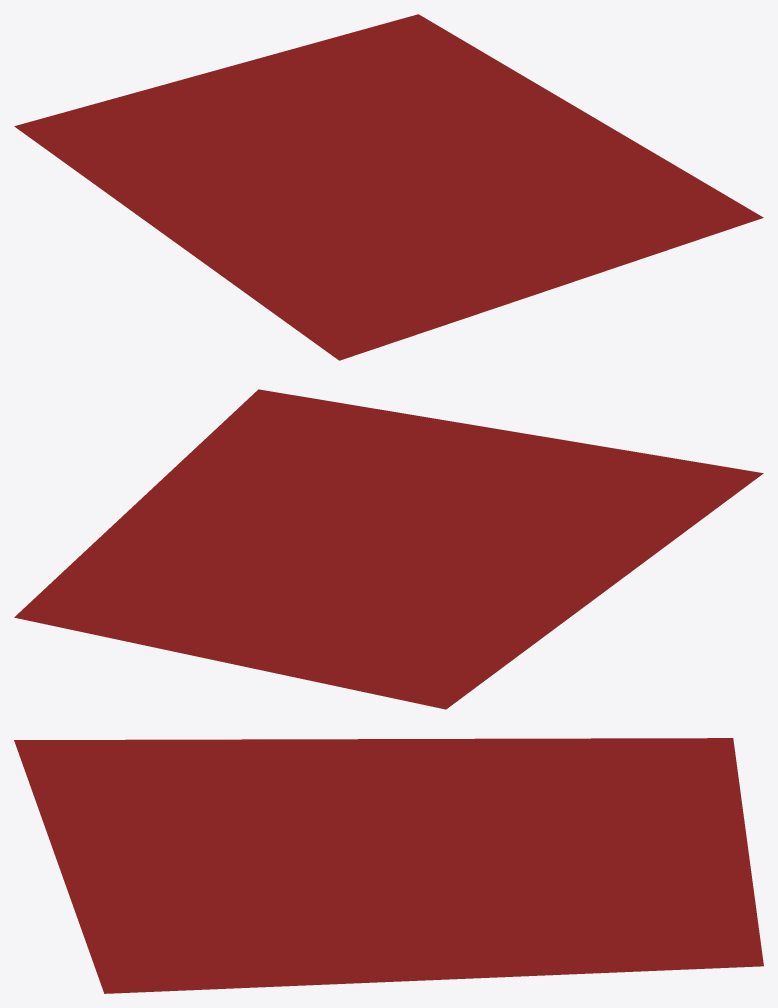
File: Blood.FBX
The picture shows the model from 3 angles, top to bottom: view 1: azimuth 30°, elevation 25°; view 2: azimuth 150°, elevation 25°; view 3: azimuth 270°, elevation 25°; orthographic projection. The views are drawn at different scales.
Parts seen in each view (by area): view 1: Blood; view 2: Blood; view 3: Blood.
Boxes of the visible parts, bbox=[...] form: Blood: bbox=[14, 14, 763, 360]; Blood: bbox=[14, 389, 763, 709]; Blood: bbox=[14, 738, 763, 993].
Size of the model in its own units: 48.14 by 4.59e-05 by 59.64.
